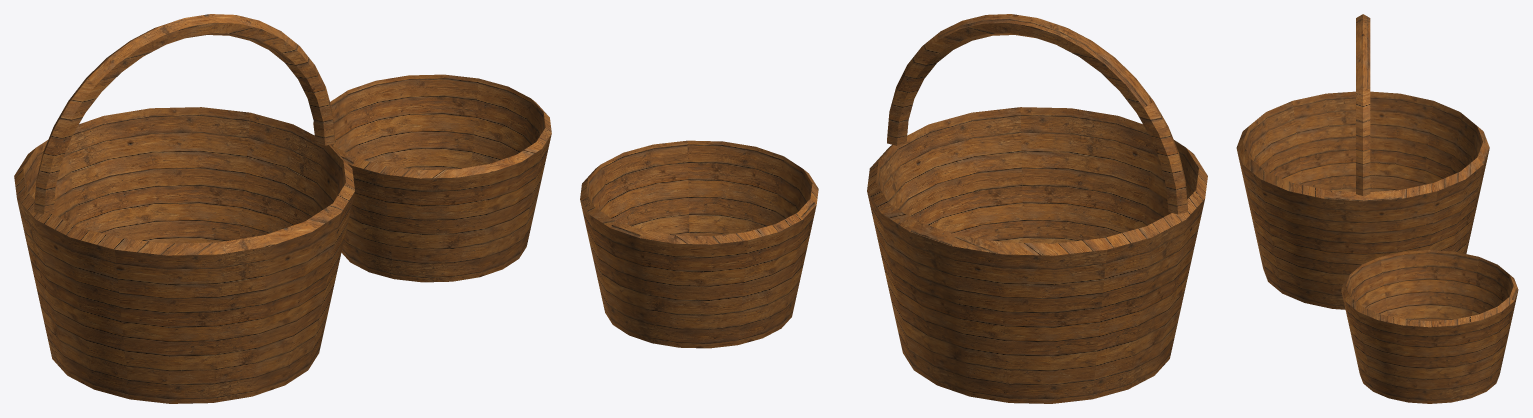
Rendered from wicker-baskets-v01.glb.
3 renders of one model, left to right at view 1: azimuth 30°, elevation 25°; view 2: azimuth 150°, elevation 25°; view 3: azimuth 270°, elevation 25°, orthographic. The views are drawn at different scales.
Visible parts, largest first — view 1: wicker-baskets; view 2: wicker-baskets; view 3: wicker-baskets.
Boxes of the visible parts, left/top/right/bottom form: wicker-baskets: left=14, top=14, right=551, bottom=403; wicker-baskets: left=580, top=14, right=1207, bottom=403; wicker-baskets: left=1236, top=14, right=1518, bottom=403.
Size of the model in its own units: 1.4 by 0.805 by 0.846.
Materials: 1 (1 with a texture image).
